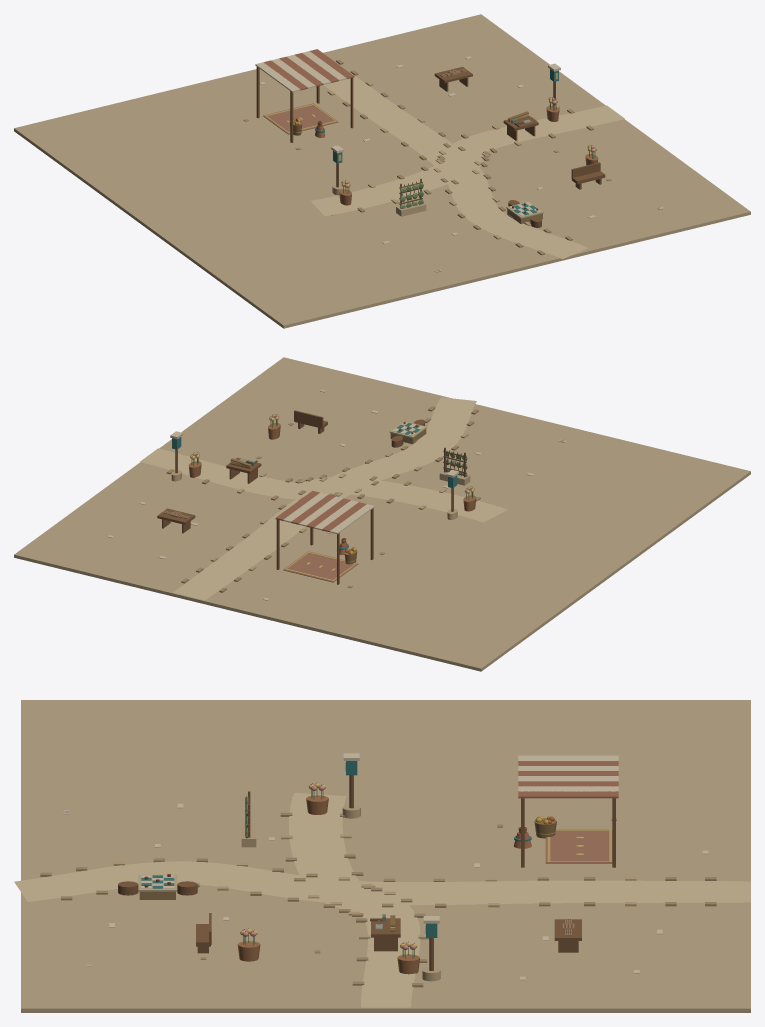
Rendered from city-lane-1.glb.
3 views of the same model, one above another, from view 1: azimuth 30°, elevation 25°; view 2: azimuth 150°, elevation 25°; view 3: azimuth 270°, elevation 25° (orthographic). The views are drawn at different scales.
Parts seen in each view (by area): view 1: city-lane-1; view 2: city-lane-1; view 3: city-lane-1.
Part boxes in pixels (<box>): city-lane-1: <box>14,14,750,328</box>; city-lane-1: <box>14,357,750,671</box>; city-lane-1: <box>14,700,750,1012</box>.
Size of the model in its own units: 32 by 3.66 by 32.3.
